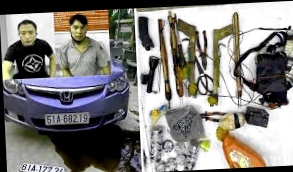Bien-so: (10, 155, 54, 172), (36, 105, 81, 119)
